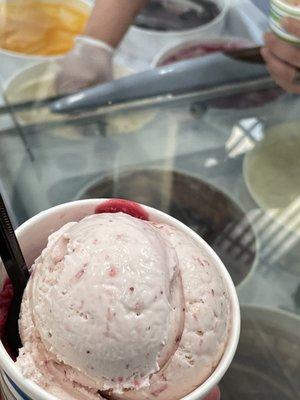sushi: (10, 197, 244, 399)
